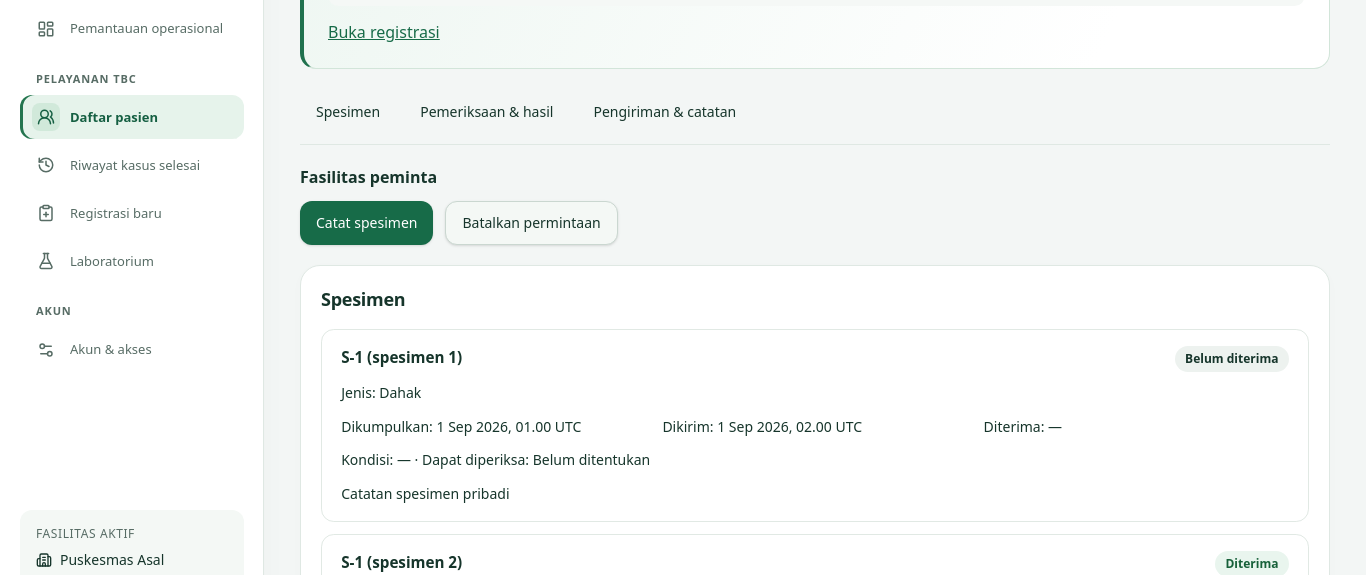
Test case: cancel requires explicit confirmation and uses real request ETag without a body
The image size is (1366, 575).
(page scrolled)
Click the button "Batalkan permintaan": click(532, 223) [446,201,618,245]
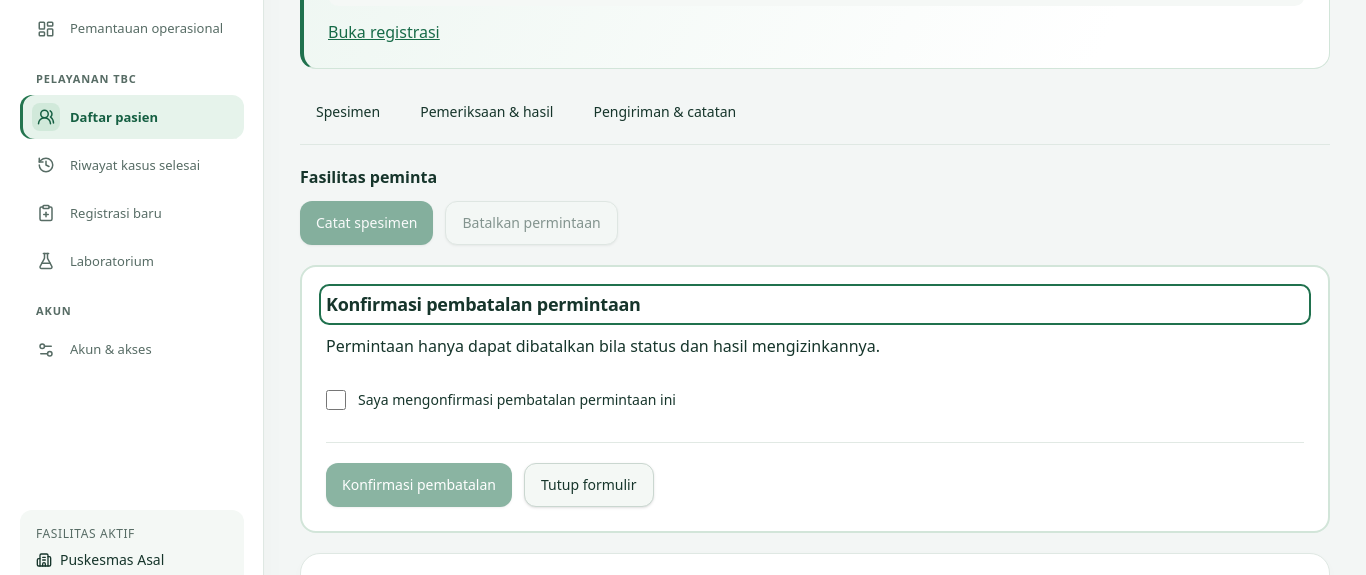
Now the button "Konfirmasi pembatalan" is disabled, box [326,463,512,507]
Click the checkbox labelled "Saya mengonfirmasi pembatalan permintaan ini": click(336, 400) [326,378,346,422]
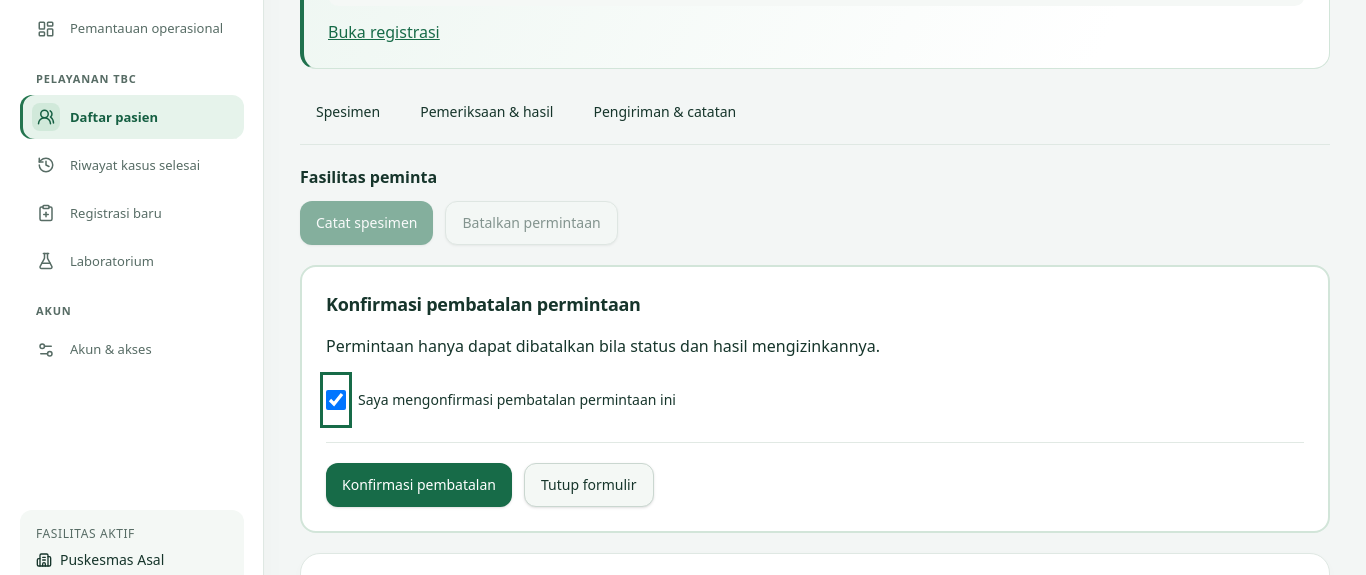
Click the button "Konfirmasi pembatalan": click(419, 485) [326,463,512,507]
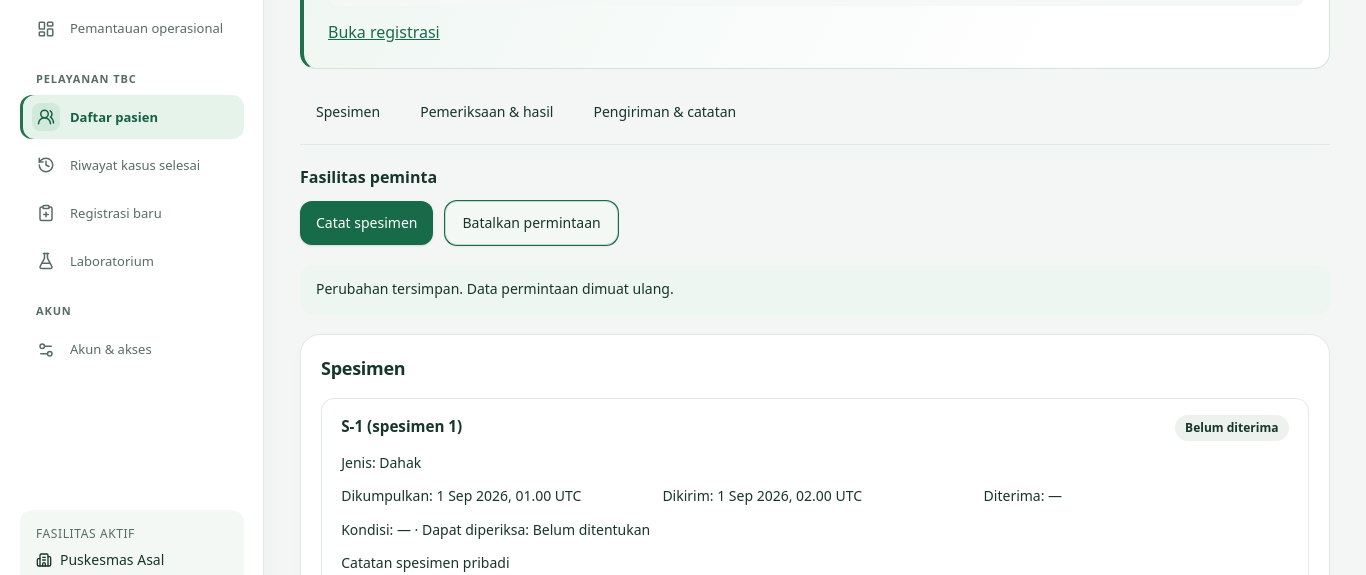
Now the text "Perubahan tersimpan. Data permintaan dimuat ulang." is shown, box [300,265,1330,314]
